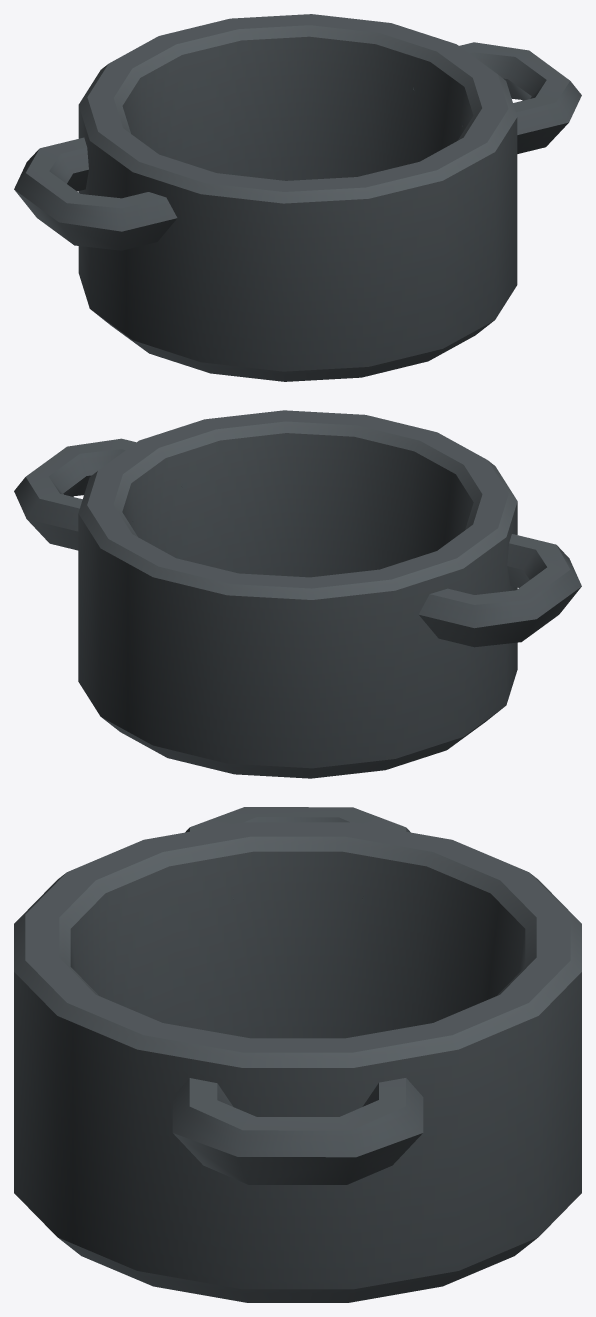
The model's file is pot_B.obj.
The picture shows the model from 3 angles, top to bottom: view 1: azimuth 30°, elevation 25°; view 2: azimuth 150°, elevation 25°; view 3: azimuth 270°, elevation 25°; orthographic projection. The views are drawn at different scales.
Visible parts, largest first — view 1: pot_B_Cylinder.201; view 2: pot_B_Cylinder.201; view 3: pot_B_Cylinder.201.
Part boxes in pixels (x1=…): pot_B_Cylinder.201: x1=14, y1=14, x2=581, y2=381; pot_B_Cylinder.201: x1=14, y1=410, x2=581, y2=778; pot_B_Cylinder.201: x1=14, y1=807, x2=581, y2=1302.
Size of the model in its own units: 1.4 by 0.5 by 1.
Materials: 1 (1 with a texture image).
